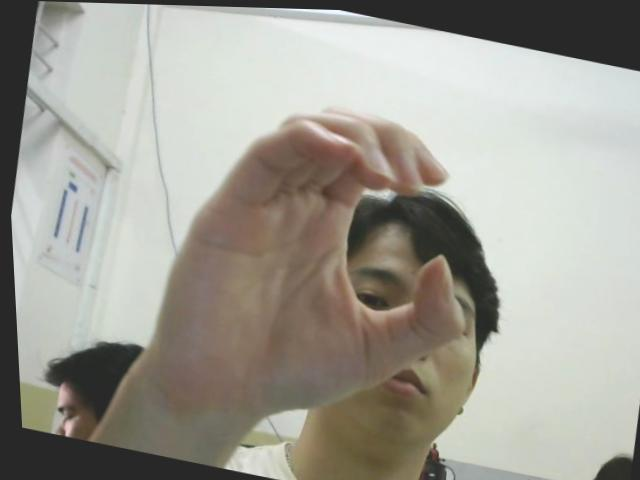C: (134, 69, 499, 448)
